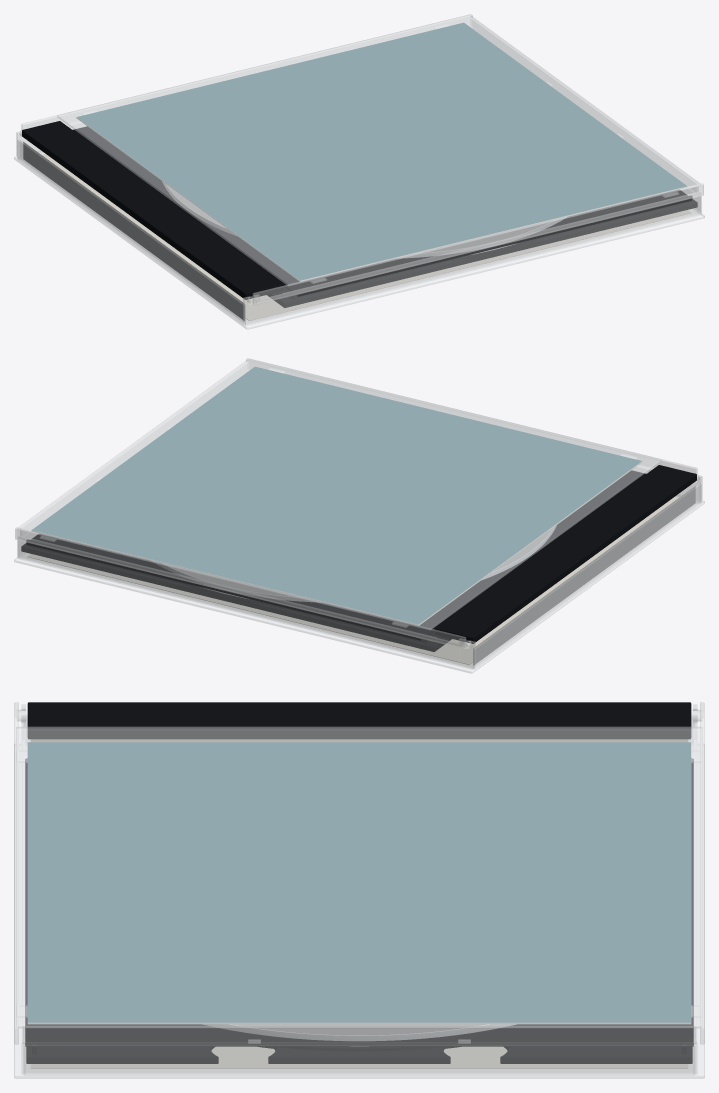
Rendered from jewel-swing-2.glb.
The picture shows the model from 3 angles, top to bottom: view 1: azimuth 30°, elevation 25°; view 2: azimuth 150°, elevation 25°; view 3: azimuth 270°, elevation 25°; orthographic projection. The views are drawn at different scales.
Visible parts, largest first — view 1: Lid_Hinge_Y__Polystyrene_Clear.001, Booklet_paper, Fixed_Base_And_Tray__Polystyrene_Clear.001, Fixed_spine_foundation, Double_sided_swing_frame, Spine_card_return, Fixed_Base_And_Tray__Tray_Graphite.002, Rear_card, CD_reflective_ring; view 2: Lid_Hinge_Y__Polystyrene_Clear.001, Booklet_paper, Fixed_Base_And_Tray__Polystyrene_Clear.001, Fixed_spine_foundation, Double_sided_swing_frame, Spine_card_return, Fixed_Base_And_Tray__Tray_Graphite.002, Rear_card, CD_reflective_ring; view 3: Lid_Hinge_Y__Polystyrene_Clear.001, Booklet_paper, Fixed_Base_And_Tray__Polystyrene_Clear.001, Fixed_spine_foundation, Double_sided_swing_frame, Fixed_Base_And_Tray__Tray_Graphite.002, Rear_card, CD_reflective_ring, Spine_card_return.
Part boxes in pixels (x1,y1,x2,y2): Lid_Hinge_Y__Polystyrene_Clear.001: (19, 14, 703, 305); Booklet_paper: (76, 22, 687, 281); Fixed_Base_And_Tray__Polystyrene_Clear.001: (14, 121, 704, 329); Fixed_spine_foundation: (22, 121, 283, 299); Double_sided_swing_frame: (73, 126, 691, 296); Spine_card_return: (23, 141, 245, 320); Fixed_Base_And_Tray__Tray_Graphite.002: (267, 190, 697, 307); Rear_card: (42, 154, 691, 320); CD_reflective_ring: (162, 181, 566, 258); Lid_Hinge_Y__Polystyrene_Clear.001: (15, 358, 699, 649); Booklet_paper: (31, 366, 642, 625); Fixed_Base_And_Tray__Polystyrene_Clear.001: (14, 465, 704, 673); Fixed_spine_foundation: (435, 465, 696, 643); Double_sided_swing_frame: (27, 470, 645, 640); Spine_card_return: (473, 485, 695, 664); Fixed_Base_And_Tray__Tray_Graphite.002: (21, 534, 451, 651); Rear_card: (27, 498, 676, 664); CD_reflective_ring: (152, 525, 556, 602); Lid_Hinge_Y__Polystyrene_Clear.001: (14, 702, 704, 1044); Booklet_paper: (27, 742, 691, 1024); Fixed_Base_And_Tray__Polystyrene_Clear.001: (14, 704, 704, 1078); Fixed_spine_foundation: (27, 702, 691, 739); Double_sided_swing_frame: (25, 759, 693, 1046); Fixed_Base_And_Tray__Tray_Graphite.002: (26, 758, 692, 1063); Rear_card: (30, 1046, 688, 1068); CD_reflective_ring: (202, 1024, 516, 1041); Spine_card_return: (30, 739, 688, 742).
Bounding box in the file's own units: 0.142 × 0.0104 × 0.125.
